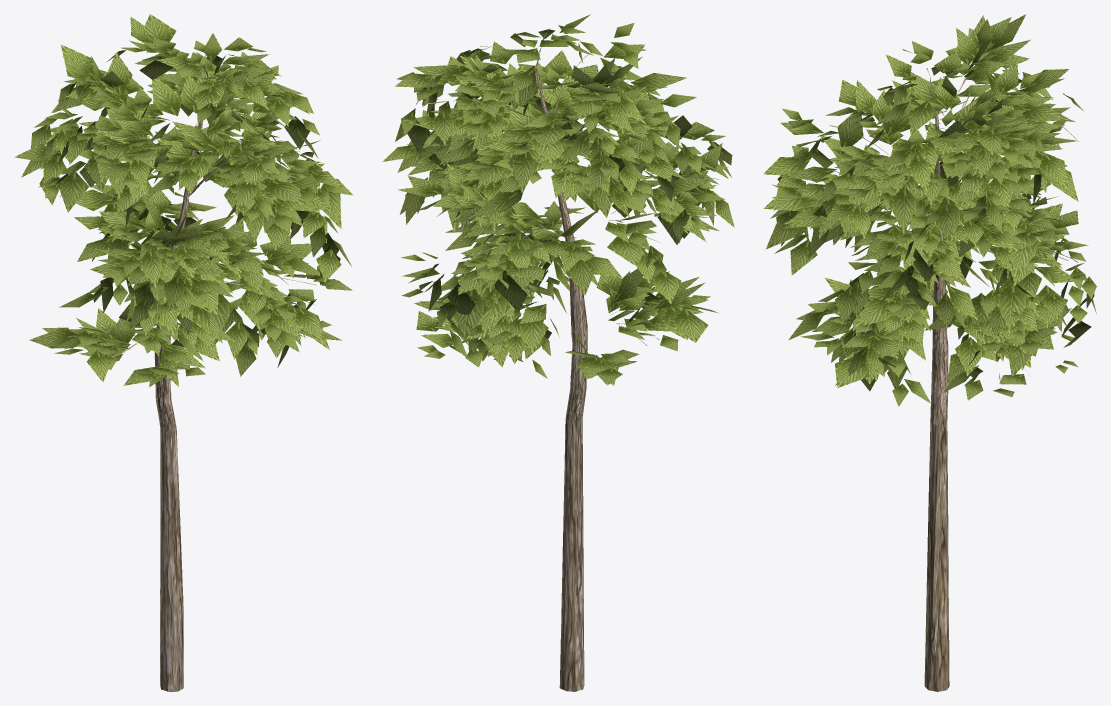
File: tree_12.glb
3 renders of one model, left to right at view 1: azimuth 30°, elevation 25°; view 2: azimuth 150°, elevation 25°; view 3: azimuth 270°, elevation 25°, orthographic. The views are drawn at different scales.
Visible parts, largest first — view 1: MainBuilding; view 2: MainBuilding; view 3: MainBuilding.
Boxes of the visible parts, bbox=[...] form: MainBuilding: bbox=[14, 14, 353, 691]; MainBuilding: bbox=[382, 14, 734, 691]; MainBuilding: bbox=[763, 14, 1096, 691].
Size of the model in its own units: 4.48 by 9.32 by 4.41.
1 material, 1 textured.
